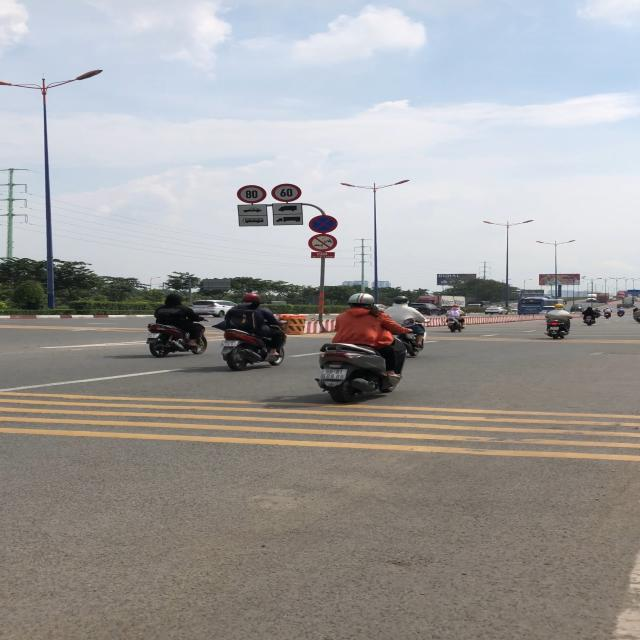Bien bao cam dung xe va do xe: (307, 214, 338, 234)
Bien bao toc do toi da cho phep: (236, 184, 268, 204), (271, 183, 303, 202)
